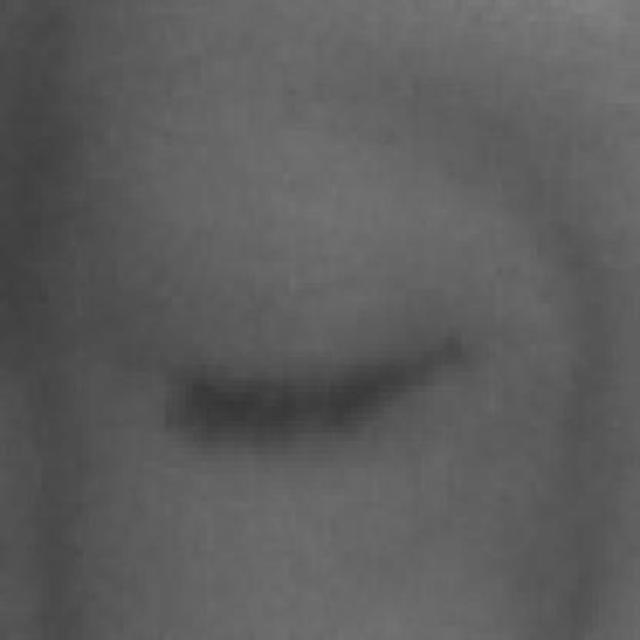drowsy: (170, 214, 461, 606)
